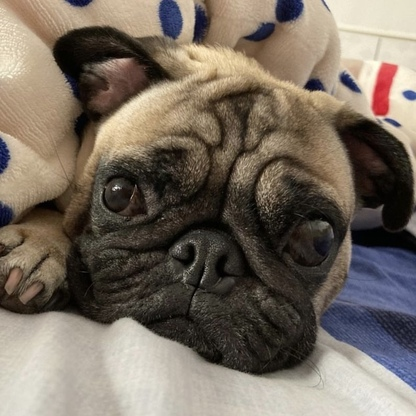Pug: (1, 18, 416, 384)
